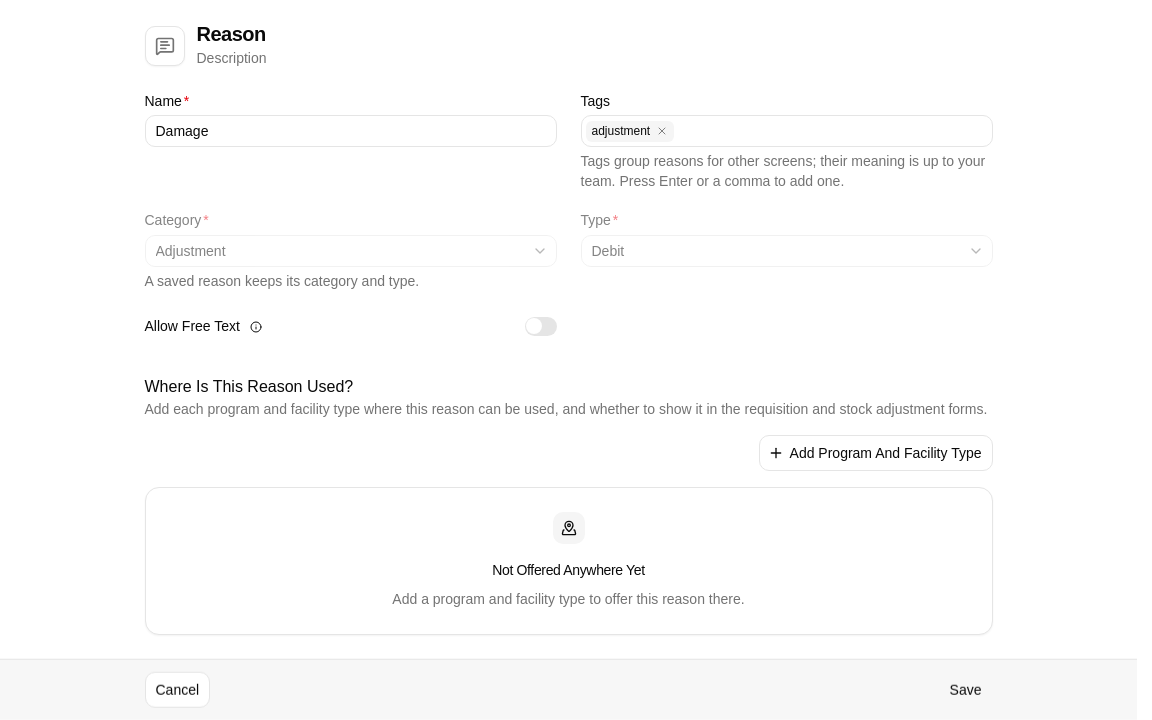
Test: ReasonEditor › shows the server's reason when the reason itself is refused
Click the button "Save" at (966, 690), box top-left (939, 672), bottom-right (992, 708)
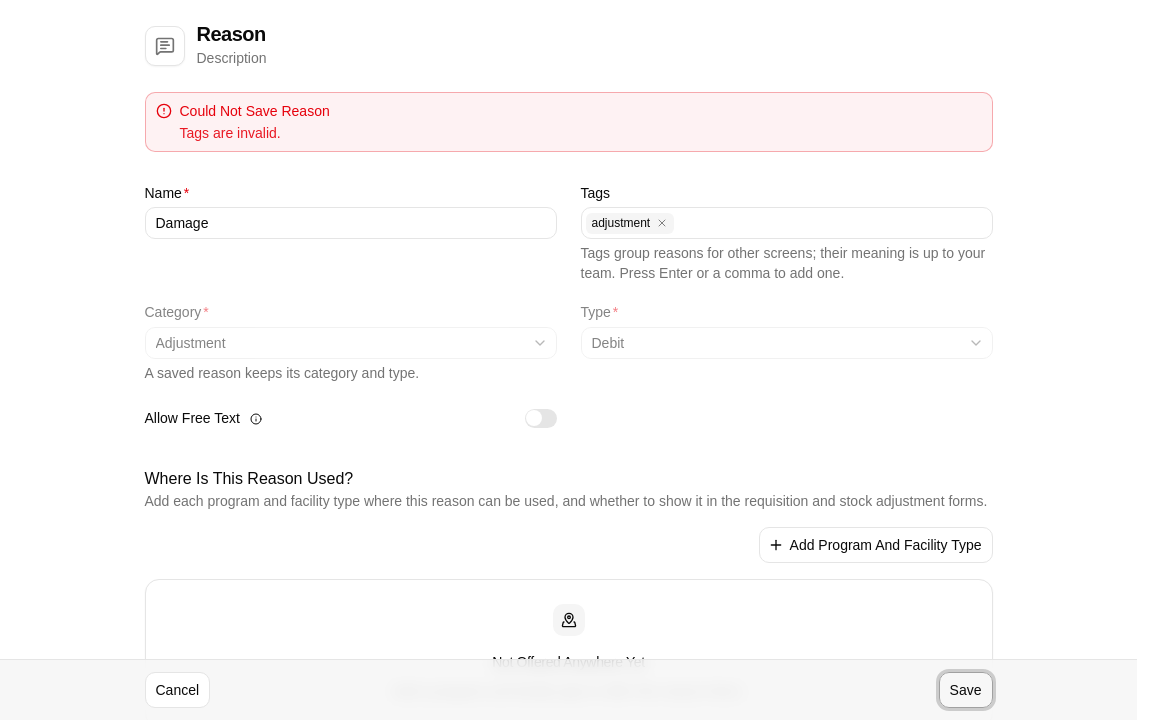
Check: the text "Could Not Save Reason" is shown, box top-left (180, 103), bottom-right (330, 119)
Check: the text "Tags are invalid." is shown, box top-left (180, 125), bottom-right (281, 141)
